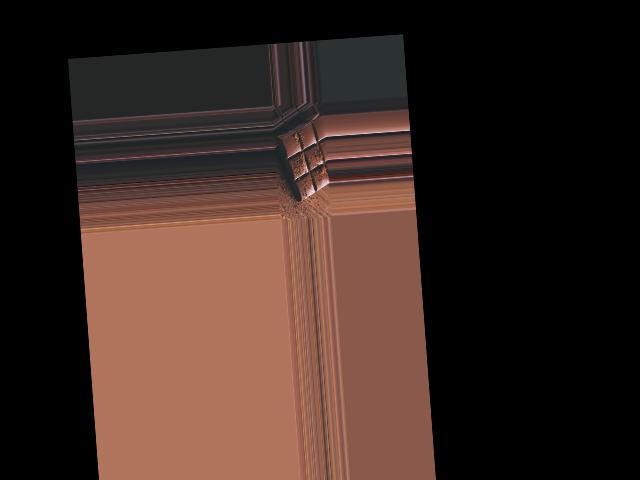chocolate: (276, 115, 330, 206)
